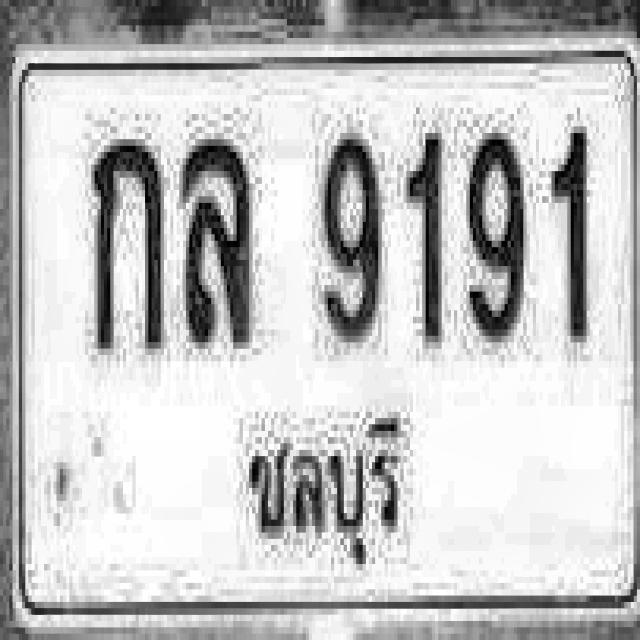license-plate: (12, 51, 640, 622)
